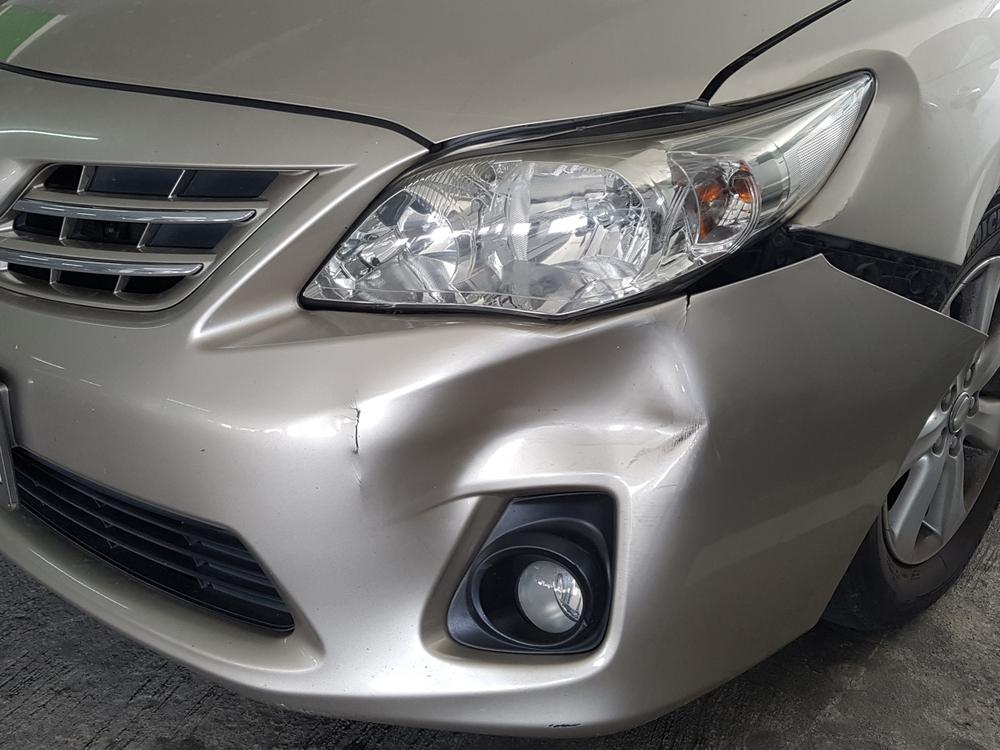crack: (681, 296, 693, 337)
dent: (363, 315, 709, 533)
